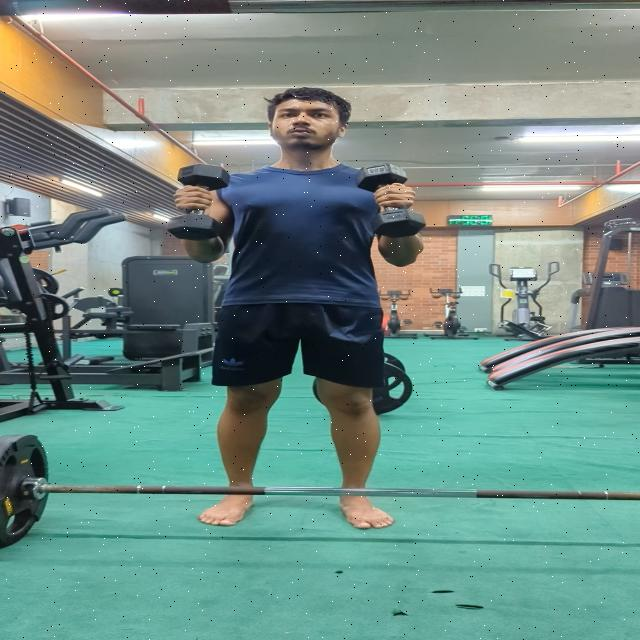Normal_DumbbellBicepCurls: (152, 86, 442, 538)
